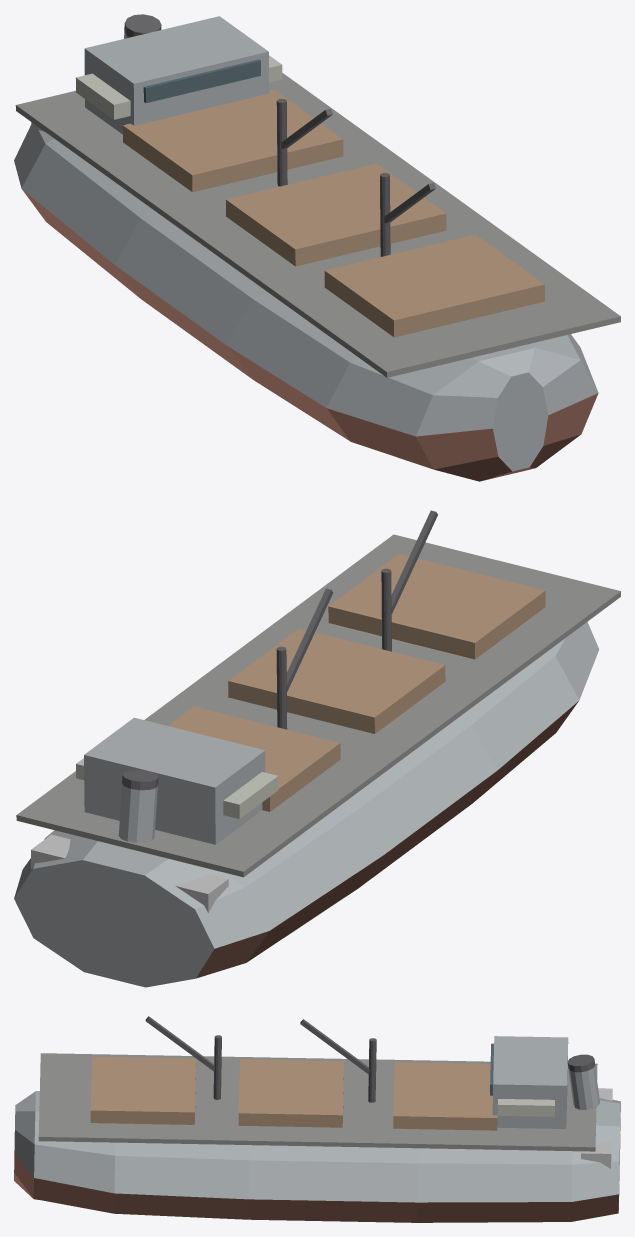
Rendered from transport.glb.
The picture shows the model from 3 angles, top to bottom: view 1: azimuth 30°, elevation 25°; view 2: azimuth 150°, elevation 25°; view 3: azimuth 270°, elevation 25°; orthographic projection. The views are drawn at different scales.
Visible parts, largest first — view 1: Hull, Deck, Hatch0, Hatch1, Hatch2, BridgeBlock, BridgeGlass, Lifeboat, CranePost.001, CranePost, FunnelTCap; view 2: Hull, Deck, BridgeBlock, Hatch0, Hatch1, Hatch2, FunnelT, FactionBand, Lifeboat, CraneBoom.001, CraneBoom, CranePost (+2 smaller); view 3: Hull, Deck, Hatch0, Hatch1, Hatch2, BridgeBlock, FunnelT, Lifeboat.001, FactionBand, CraneBoom, CraneBoom.001, CranePost (+2 smaller).
Part boxes in pixels (left/top/right/bottom): Hull: left=14, top=125, right=598, bottom=481; Deck: left=15, top=73, right=620, bottom=377; Hatch0: left=324, top=234, right=544, bottom=337; Hatch1: left=226, top=163, right=446, bottom=266; Hatch2: left=123, top=89, right=343, bottom=192; BridgeBlock: left=84, top=16, right=269, bottom=134; BridgeGlass: left=143, top=59, right=260, bottom=102; Lifeboat: left=75, top=73, right=130, bottom=119; CranePost.001: left=276, top=98, right=287, bottom=186; CranePost: left=380, top=173, right=390, bottom=256; FunnelTCap: left=124, top=14, right=161, bottom=37; Hull: left=14, top=622, right=599, bottom=987; Deck: left=16, top=534, right=620, bottom=877; BridgeBlock: left=84, top=717, right=265, bottom=844; Hatch0: left=328, top=554, right=545, bottom=659; Hatch1: left=228, top=628, right=445, bottom=733; Hatch2: left=168, top=706, right=340, bottom=811; FunnelT: left=118, top=784, right=157, bottom=842; FactionBand: left=31, top=834, right=228, bottom=912; Lifeboat: left=223, top=772, right=278, bottom=818; CraneBoom.001: left=286, top=588, right=333, bottom=691; CraneBoom: left=391, top=510, right=437, bottom=613; CranePost: left=381, top=568, right=391, bottom=651; Hull: left=14, top=1091, right=620, bottom=1222; Deck: left=38, top=1053, right=597, bottom=1151; Hatch0: left=90, top=1056, right=196, bottom=1124; Hatch1: left=238, top=1059, right=344, bottom=1127; Hatch2: left=393, top=1062, right=497, bottom=1130; BridgeBlock: left=492, top=1036, right=568, bottom=1128; FunnelT: left=568, top=1066, right=599, bottom=1109; Lifeboat.001: left=497, top=1099, right=554, bottom=1116; FactionBand: left=581, top=1088, right=612, bottom=1168; CraneBoom: left=145, top=1016, right=214, bottom=1071; CraneBoom.001: left=300, top=1019, right=369, bottom=1073; CranePost: left=213, top=1035, right=221, bottom=1099.
Bounding box in the file's own units: 3.46 × 3.02 × 9.03.
